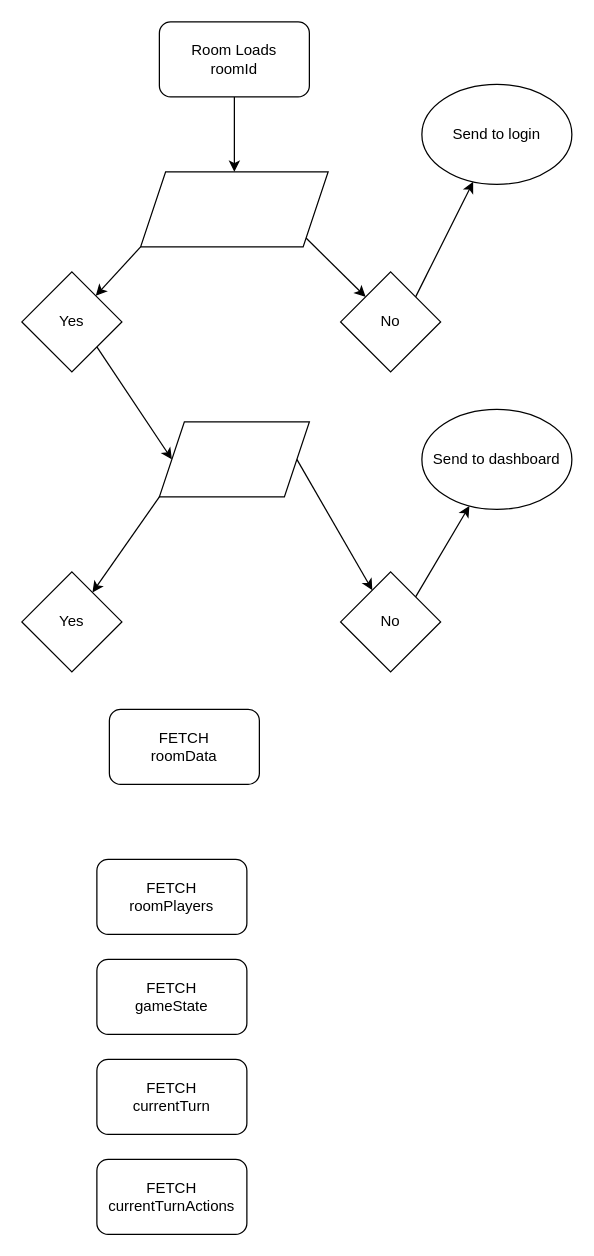
The diagram is 594 pixels wide and 1256 high, and some of its shapes have lost their labels. The centre of each missing label's shape, as x and y in pixels:
has roomId?: [233,459]
is user logged in?: [233,209]
